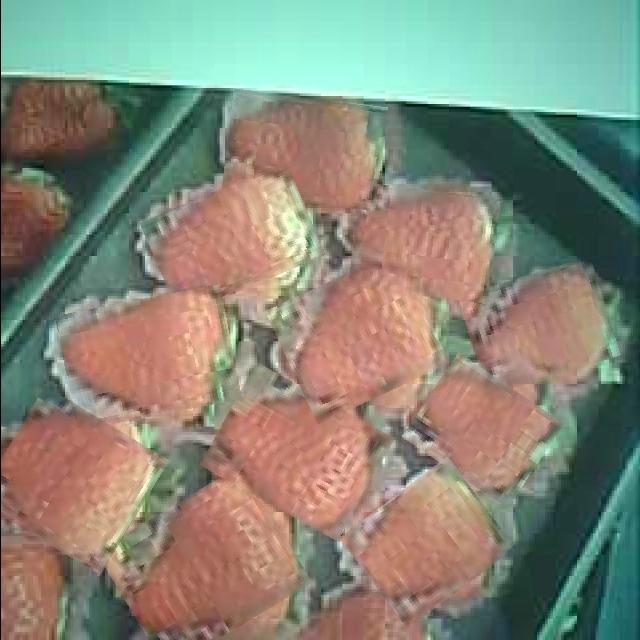strawberry: (107, 482, 300, 640), (208, 377, 384, 525), (0, 400, 157, 561), (273, 262, 439, 412), (58, 292, 236, 424), (348, 471, 504, 615), (146, 174, 318, 304), (409, 365, 555, 494), (463, 265, 614, 387), (224, 94, 384, 208), (351, 186, 496, 300)
